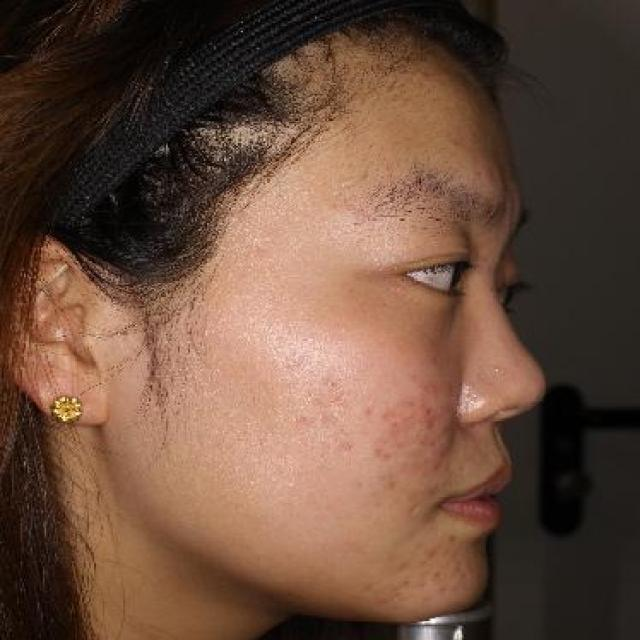dark spot: (382, 472, 404, 492), (369, 442, 392, 460), (336, 437, 360, 454), (421, 403, 436, 423), (378, 449, 395, 465), (422, 548, 440, 562)
whiteheads: (463, 378, 482, 394), (488, 360, 507, 375)
